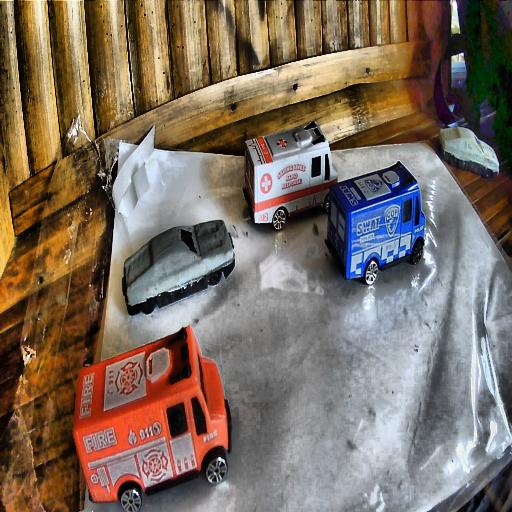ambulance: (240, 121, 330, 231)
fire_truck: (73, 325, 235, 510)
normal_car: (121, 220, 236, 317), (439, 126, 501, 178)
police car: (323, 161, 425, 285)
